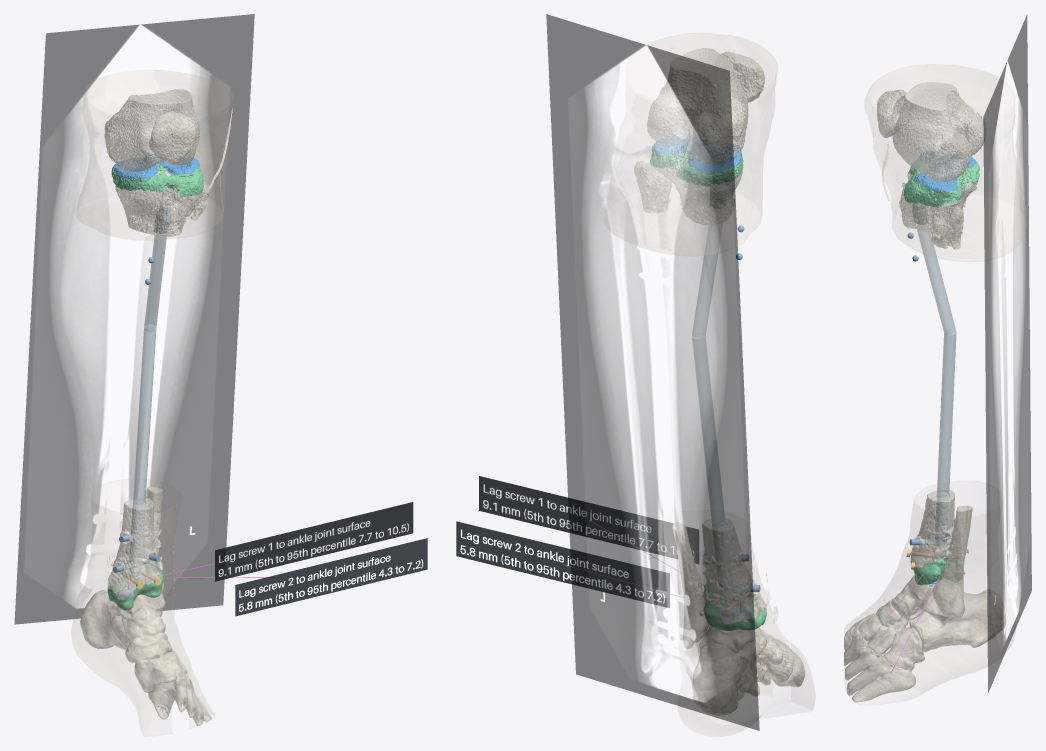
3 views of the same model, side by side, from view 1: azimuth 30°, elevation 25°; view 2: azimuth 150°, elevation 25°; view 3: azimuth 270°, elevation 25° (orthographic). The views are drawn at different scales.
Visible parts, largest first — view 1: radiograph, skin, implant_8, tibia, implant_16, tarsal, femur, nail_modelled, patella, metatarsal, capsule_band_knee, nail (+3 smaller); view 2: radiograph, skin, femur, implant_17, implant_9, tibia, tarsal, nail_modelled, fibula, capsule_band_knee, metatarsal, patella (+3 smaller); view 3: radiograph, skin, tarsal, femur, tibia, fibula, nail_modelled, metatarsal, capsule_band_knee, articular_surface_knee, patella, nail (+2 smaller).
Part boxes in pixels (bbox=[...]): radiograph: bbox=[14, 14, 254, 624]; skin: bbox=[72, 70, 233, 735]; implant_8: bbox=[215, 502, 413, 581]; tibia: bbox=[108, 166, 201, 610]; implant_16: bbox=[235, 538, 427, 616]; tarsal: bbox=[80, 586, 187, 692]; femur: bbox=[104, 89, 200, 171]; nail_modelled: bbox=[133, 235, 166, 505]; patella: bbox=[149, 111, 198, 164]; metatarsal: bbox=[148, 672, 211, 725]; capsule_band_knee: bbox=[111, 158, 203, 197]; nail: bbox=[129, 202, 170, 580]; radiograph: bbox=[546, 14, 759, 730]; skin: bbox=[605, 33, 814, 736]; femur: bbox=[647, 48, 748, 164]; implant_17: bbox=[456, 521, 669, 607]; implant_9: bbox=[479, 476, 698, 563]; tibia: bbox=[650, 147, 766, 625]; tarsal: bbox=[692, 626, 794, 715]; nail_modelled: bbox=[692, 223, 725, 527]; fibula: bbox=[634, 161, 708, 648]; capsule_band_knee: bbox=[650, 147, 743, 186]; metatarsal: bbox=[737, 645, 805, 700]; patella: bbox=[721, 51, 764, 102]; radiograph: bbox=[983, 15, 1031, 692]; skin: bbox=[844, 64, 1026, 694]; tarsal: bbox=[849, 575, 1006, 670]; femur: bbox=[892, 82, 986, 182]; tibia: bbox=[899, 173, 978, 585]; fibula: bbox=[931, 205, 972, 617]; nail_modelled: bbox=[917, 229, 956, 497]; metatarsal: bbox=[844, 629, 915, 702]; capsule_band_knee: bbox=[903, 158, 979, 207]; articular_surface_knee: bbox=[914, 150, 977, 191]; patella: bbox=[876, 89, 906, 137]; nail: bbox=[912, 203, 949, 561].
Bounding box in the file's own units: 0.3194 × 0.5722 × 0.1502.
Materials: 15 (3 with a texture image).
